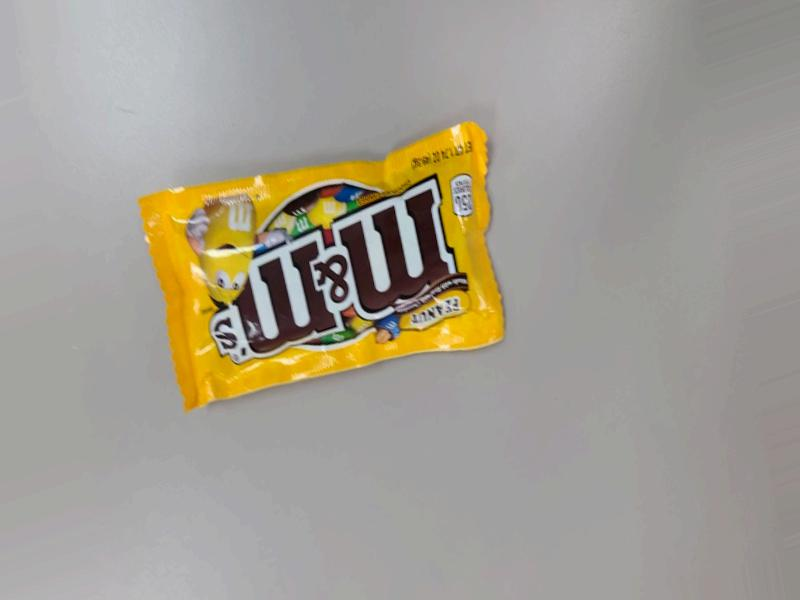m&m: (174, 86, 516, 434)
